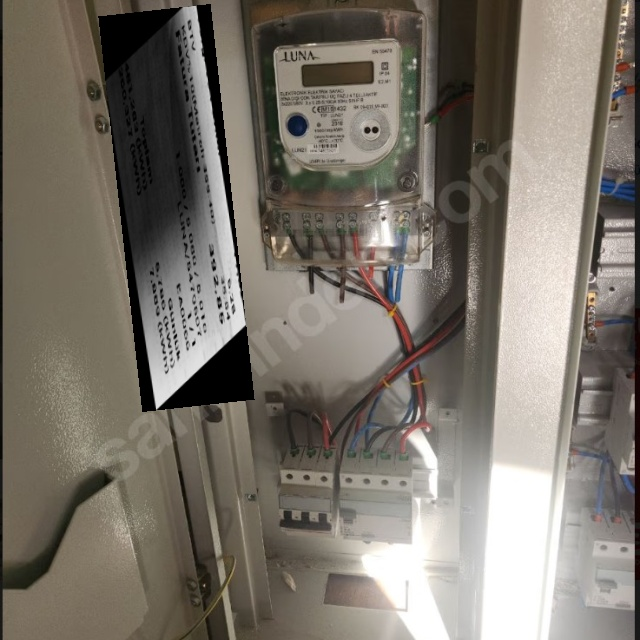electricity-bill: (98, 4, 254, 412)
